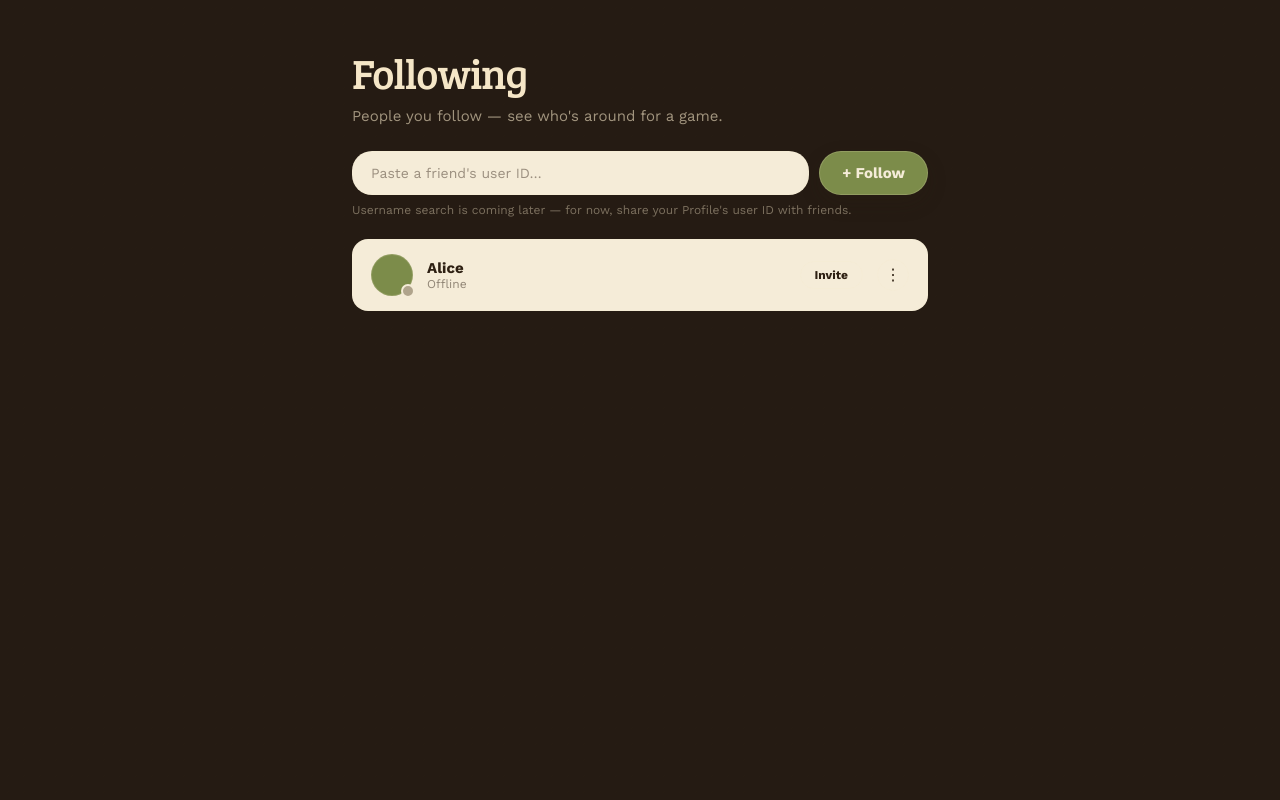
Test: FriendsContainer › Block opens a confirmation modal without blocking yet
The image size is (1280, 800).
Click the button named "More options for Alice". click: coordinates (893, 275)
box: [877, 259, 909, 291]
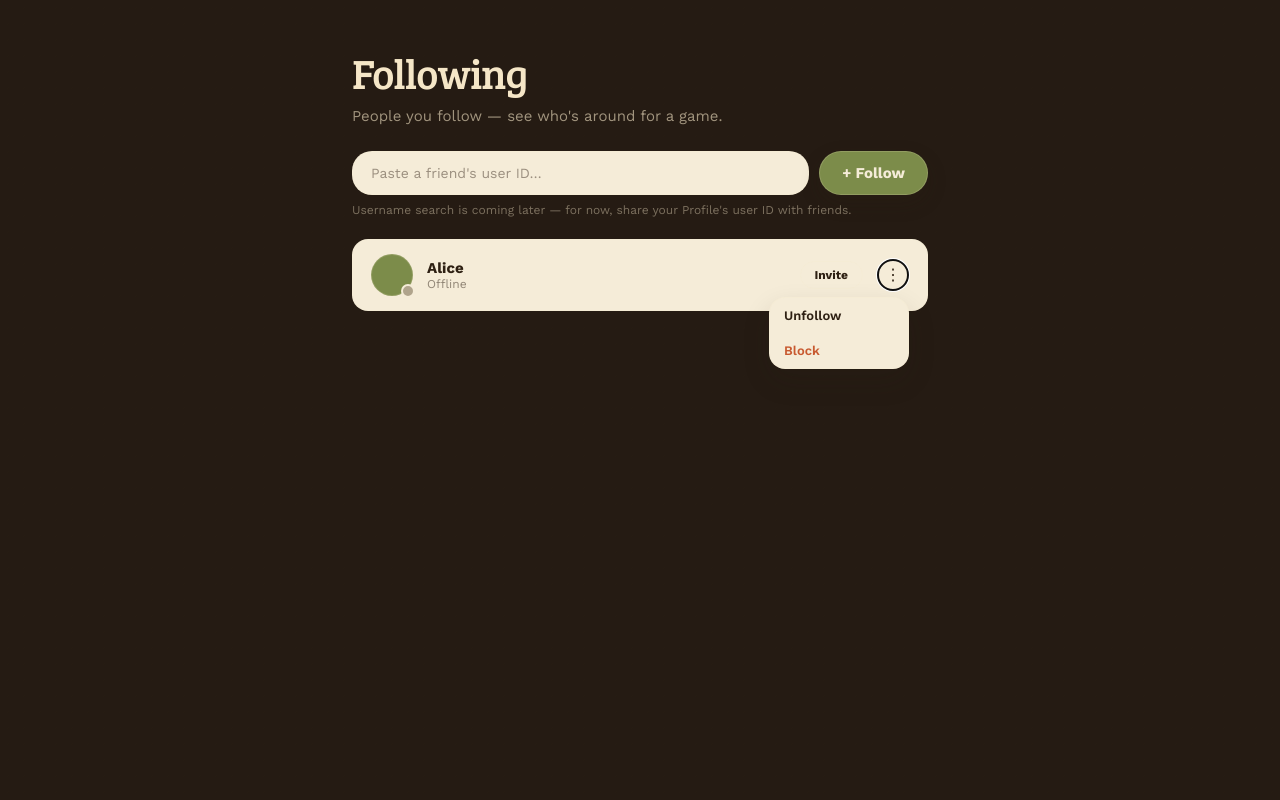
Click the menu item "Block". click: coordinates (839, 350)
box: [770, 333, 908, 368]
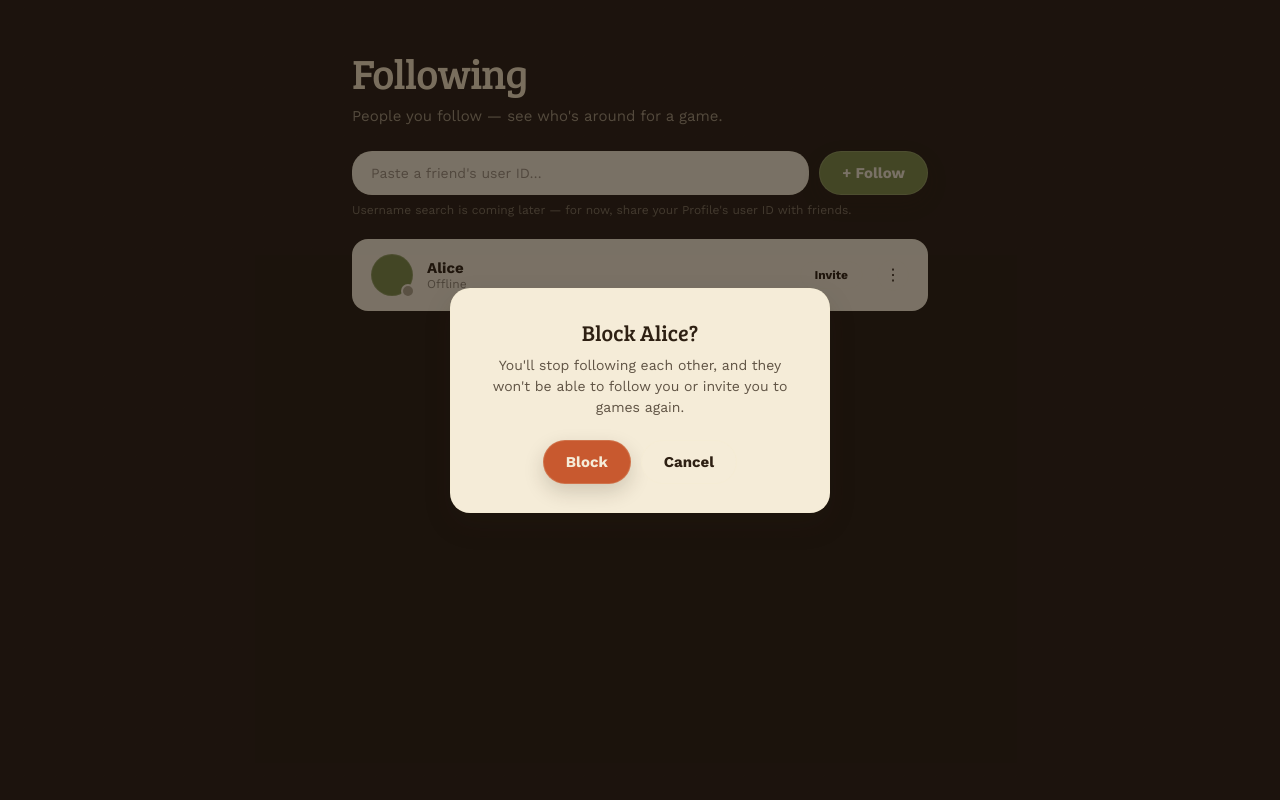
Expected: the text "Block Alice?" is shown, [582, 316, 698, 346]
